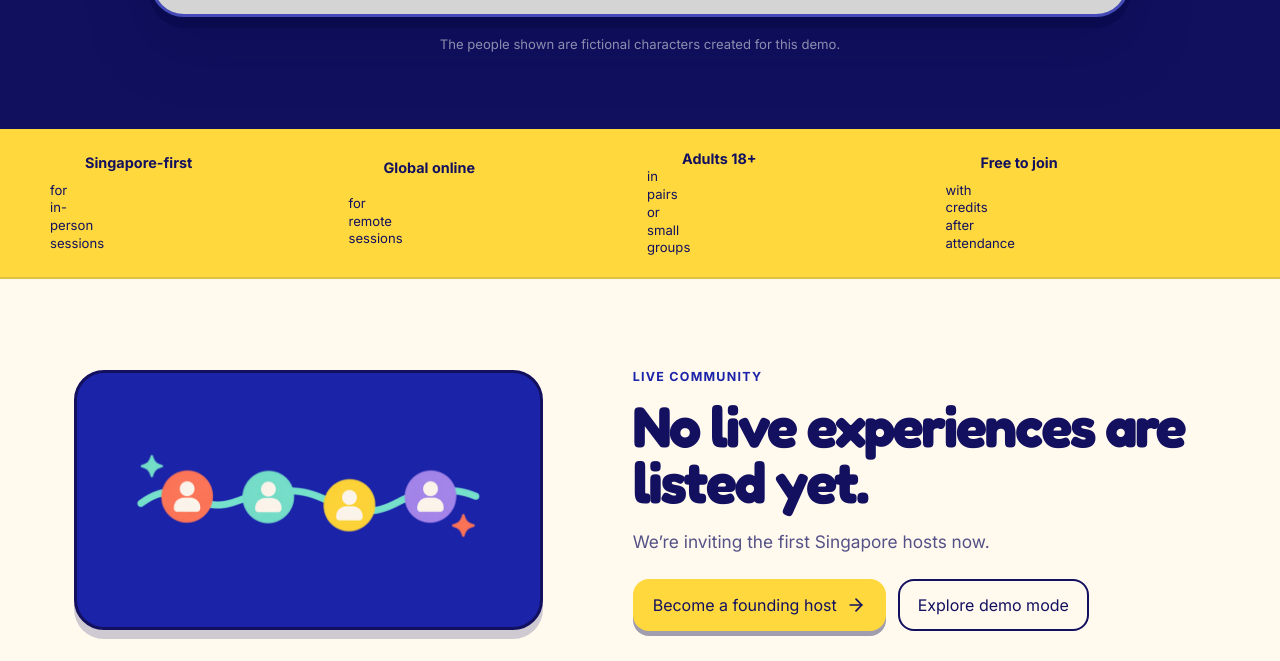
Test: public experiences marketplace › shows useful validation when a host draft is incomplete
(page scrolled)
Click the button "Explore demo mode" at (993, 605), box x1=898 y1=579 x2=1089 y2=631
(page scrolled)
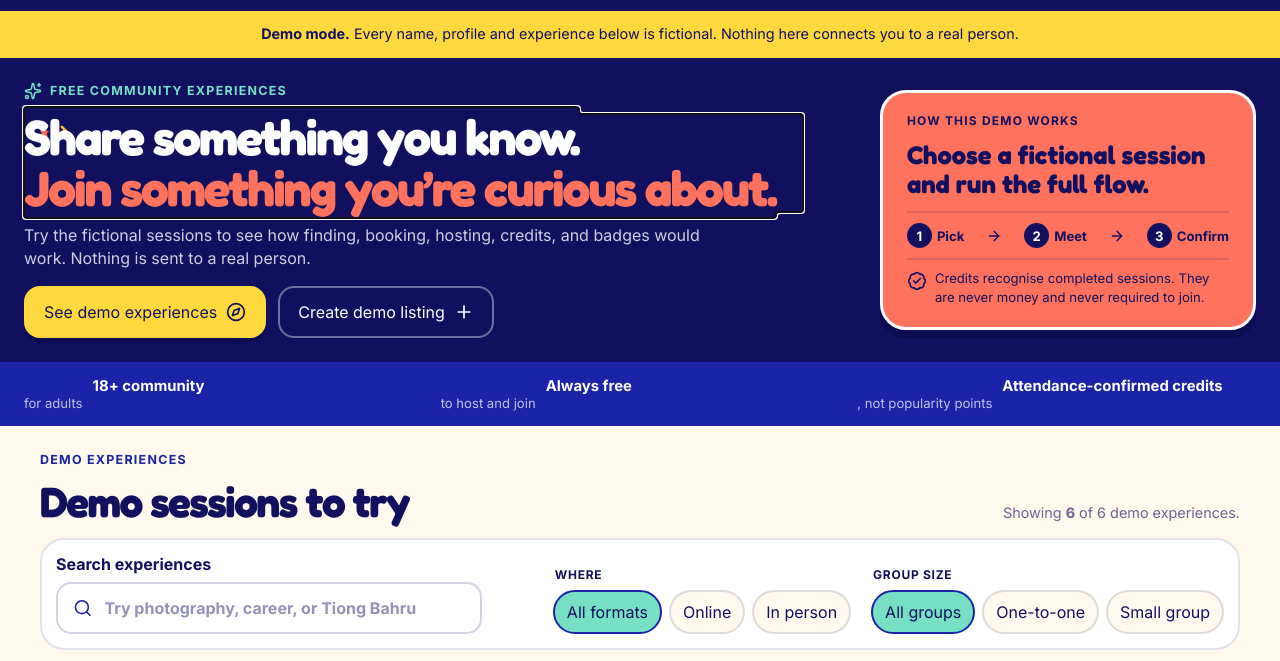
Click the button "Create demo listing" at (386, 312), box x1=278 y1=286 x2=494 y2=338
(page scrolled)
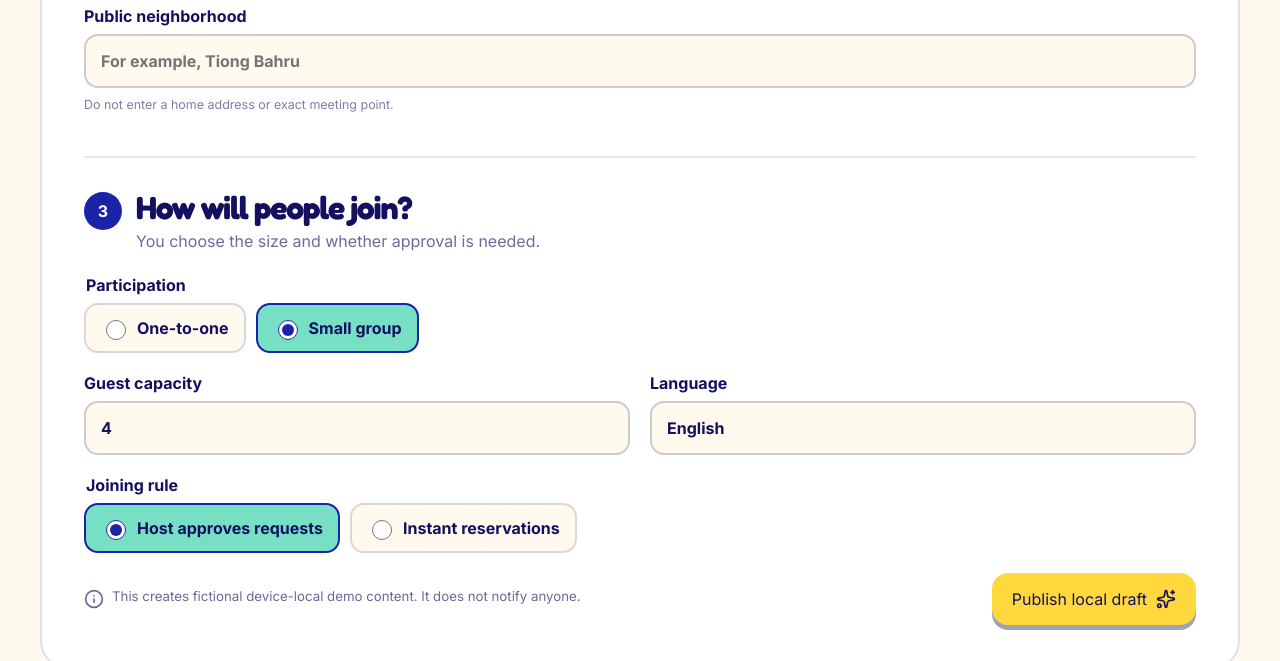
Click the button "Publish local draft" at (1094, 600), box x1=992 y1=574 x2=1196 y2=626
(page scrolled)
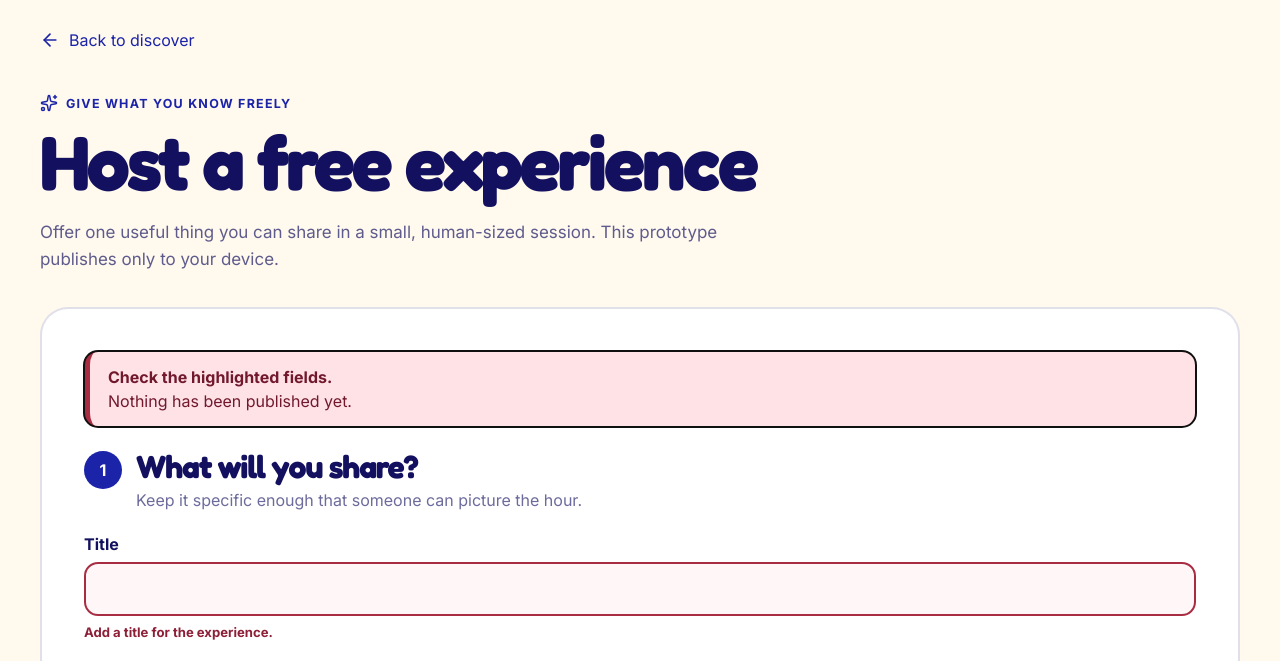
Now the text "Add a title for the experience." is shown, box x1=84 y1=624 x2=273 y2=640
Now the message "Check the highlighted fields. Nothing has been published yet." is shown, box x1=84 y1=351 x2=1196 y2=427
